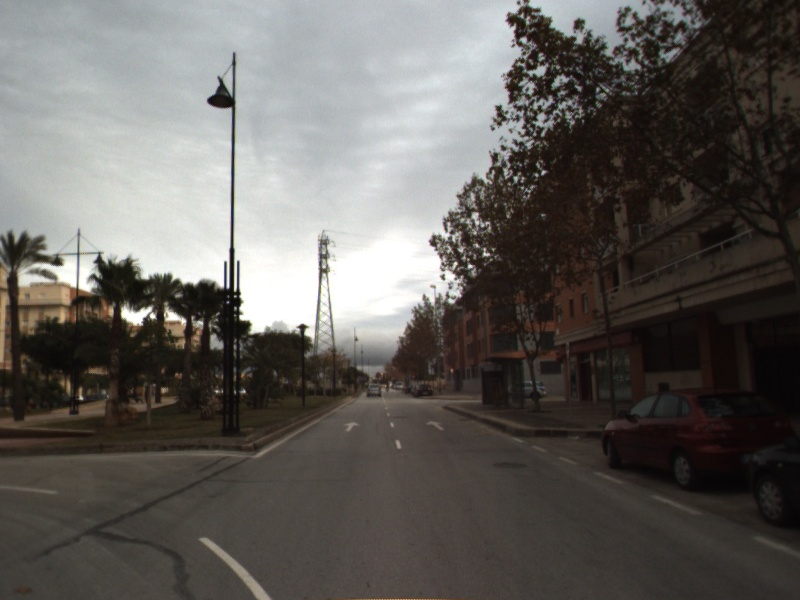STRAIGHT: (424, 418, 447, 432), (342, 420, 362, 433)
